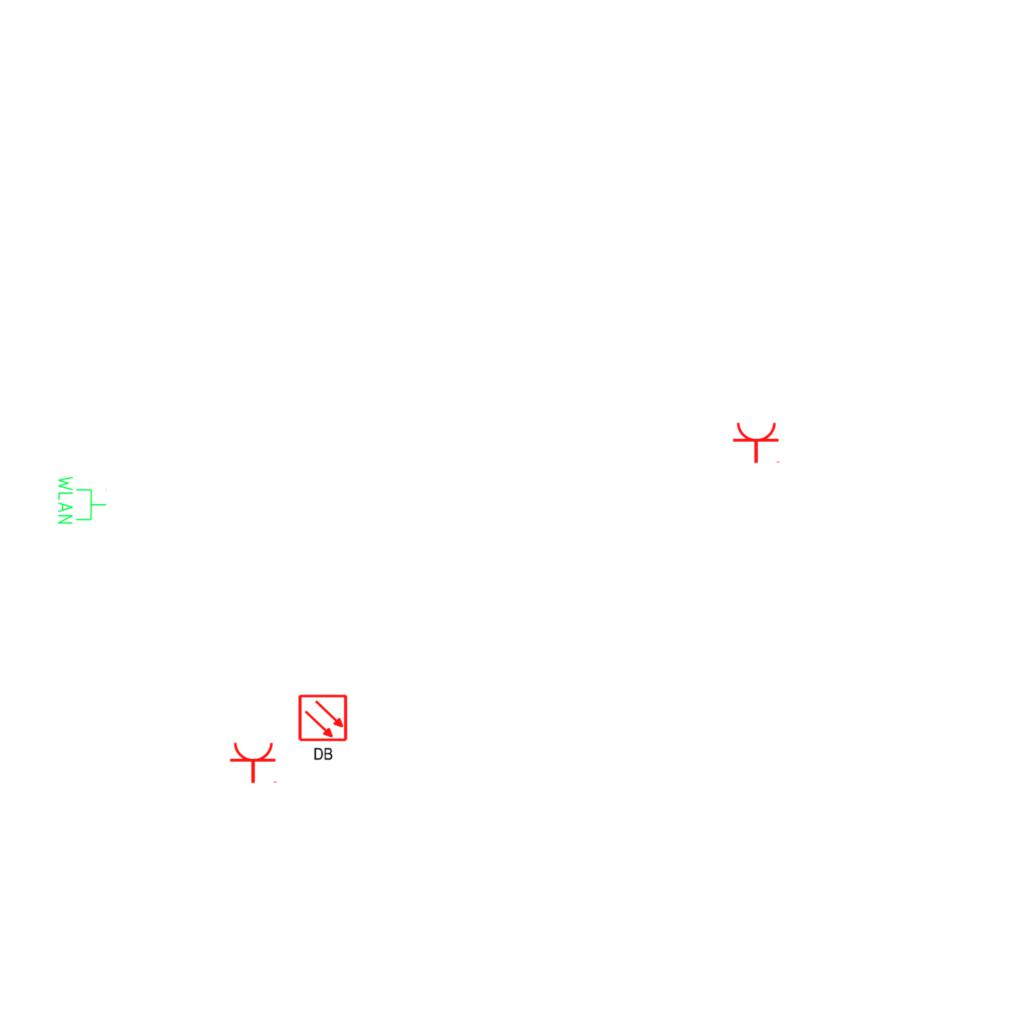DB_Melder_in_Doppelboden_mit_Revisionsoeffnung_mind_40_x_40_cm: (295, 691, 352, 765)
Schukosteckdose_einfach: (229, 741, 279, 784), (732, 421, 782, 464)
WLAN: (56, 474, 108, 526)
